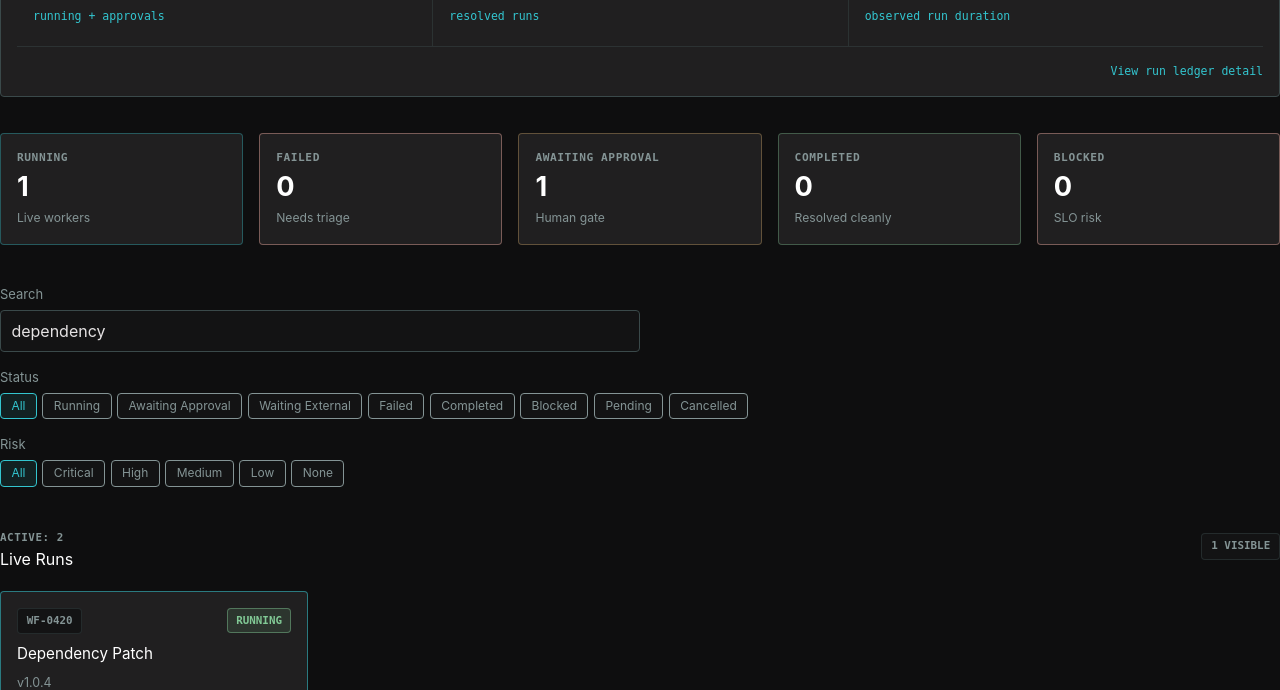
Test: RunBoard integration › filters runs by searchable enterprise context
The image size is (1280, 690).
(page scrolled)
Expected: the text "run-0421" is not shown
Replace the text in the search field labelled "Search" with "alice" at (320, 331), box top-left (0, 310), bottom-right (640, 352)
(page scrolled)
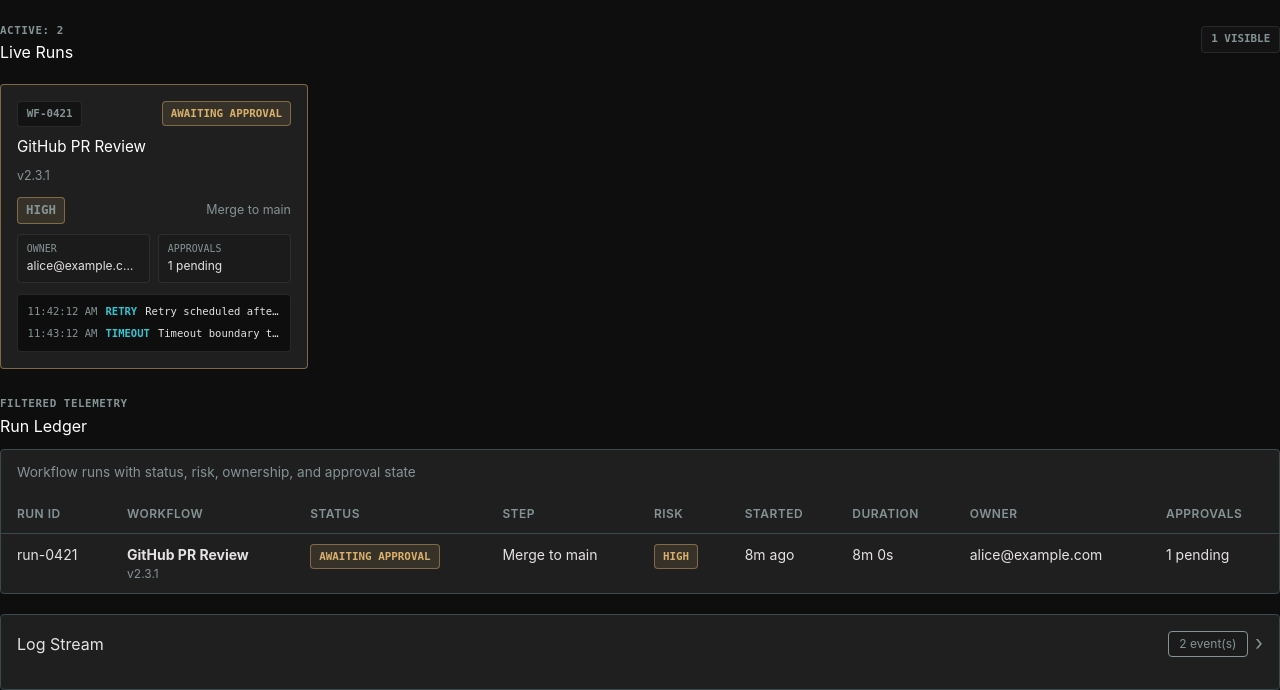
Expected: the text "run-0421" is shown, top-left (1, 533), bottom-right (111, 592)
Expected: the text "run-0420" is gone
